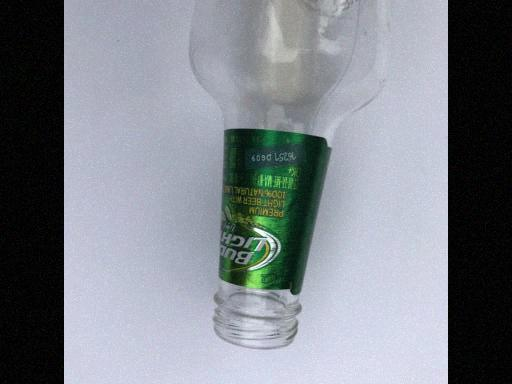glass: (211, 125, 332, 352)
plastic: (211, 128, 331, 352)
